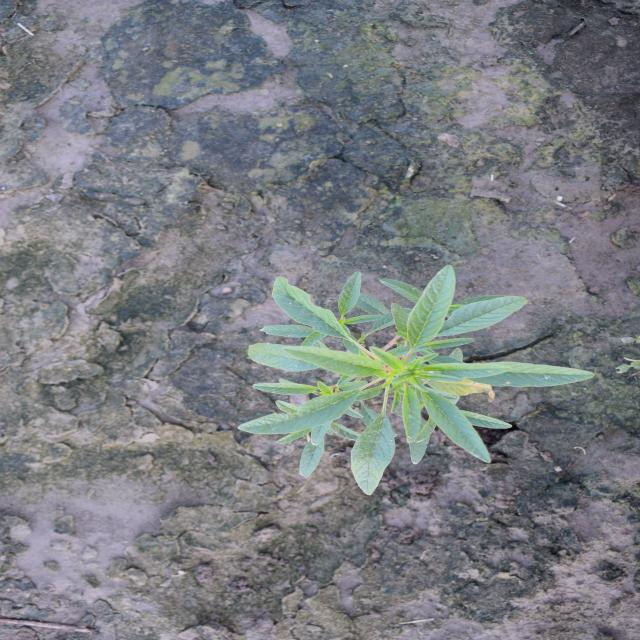Waterhemp: (234, 261, 600, 498)
